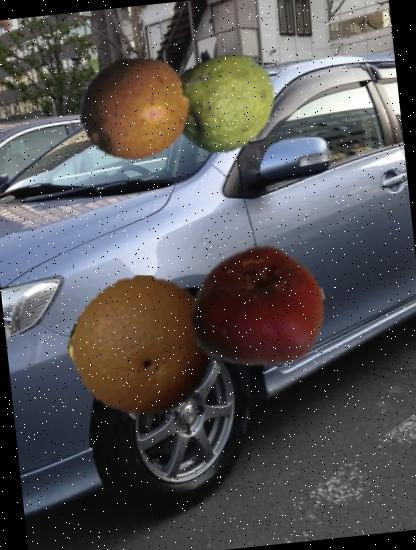Granadilla: (70, 26, 224, 180)
Limes: (162, 40, 281, 159)
Nectarine: (184, 234, 332, 384)
Orange: (63, 268, 222, 427)
Quince: (62, 293, 170, 401)
